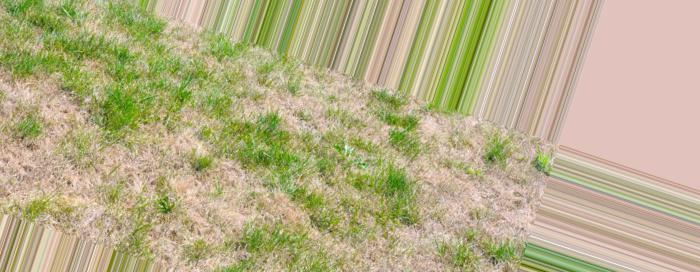patch: (85, 124, 223, 178), (389, 121, 486, 181), (264, 179, 351, 230), (139, 190, 252, 227), (437, 191, 522, 229), (296, 91, 368, 135), (40, 73, 111, 113), (367, 237, 461, 265), (25, 137, 76, 182), (218, 72, 275, 107)
